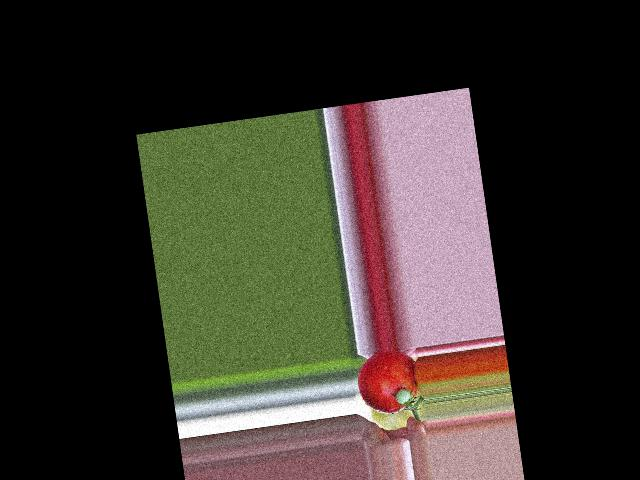tomato: (354, 346, 421, 418)
